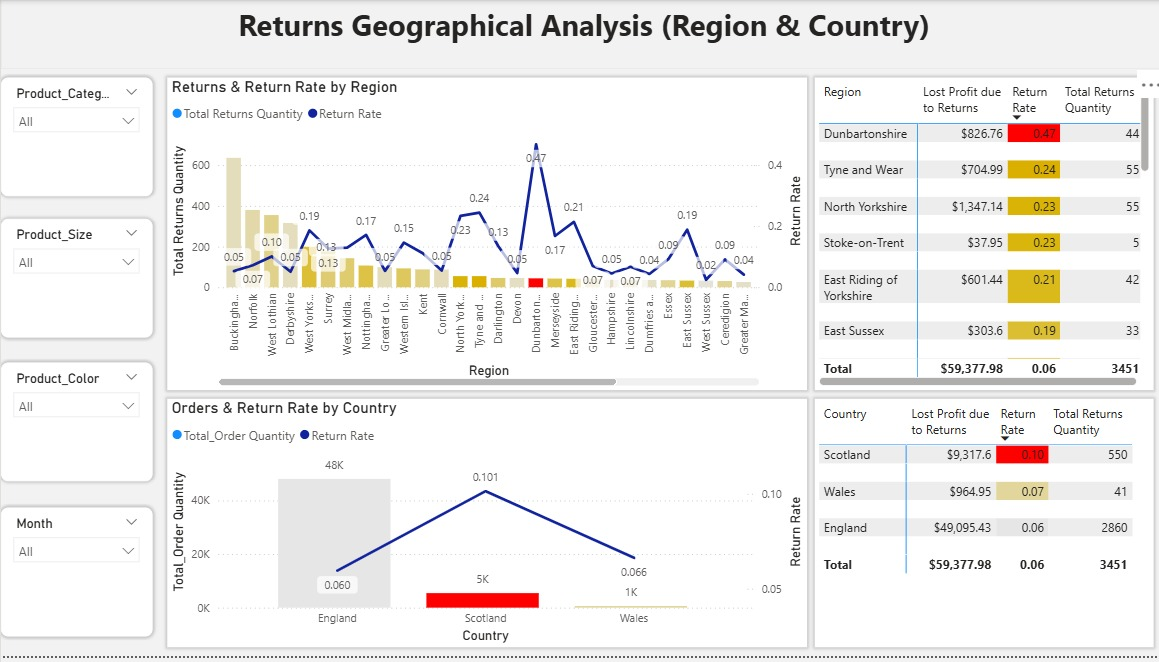

This screenshot's page, from the dashboard's own definition file:
{"tool":"powerbi","page":{"name":"Dashboarding step 3","canvas":[1280,720],"ordinal":12},"visuals":[{"type":"lineClusteredColumnComboChart","title":"Returns & Return Rate by Region","fields":{"Category":["Retailers1.Region"],"Y":["Calculations.Total Returns Quantity"],"Y2":["Calculations.Return Rate"]},"box":[182.5,85.1,702.6,343.1],"z":0},{"type":"lineClusteredColumnComboChart","title":"Orders & Return Rate by Country","fields":{"Category":["Retailers1.Country"],"Y":["Calculations.Total_Order Quantity"],"Y2":["Calculations.Return Rate"]},"box":[182.5,437.7,702.6,273.1],"z":1000},{"type":"pivotTable","fields":{"Values":["Calculations.Lost Profit due to Returns","Calculations.Return Rate","Calculations.Total Returns Quantity"],"Rows":["Retailers1.Country"]},"box":[893.3,437.7,371.9,273.1],"z":2000},{"type":"pivotTable","fields":{"Values":["Calculations.Lost Profit due to Returns","Calculations.Return Rate","Calculations.Total Returns Quantity"],"Rows":["Retailers1.Region"]},"box":[893.3,85.1,371.9,343.1],"z":3000},{"type":"textbox","box":[0,0,1280.3,75.5],"z":4000},{"type":"slicer","fields":{"Values":["Products1.Product_Category"]},"box":[0,85.1,166,130.4],"z":5000},{"type":"slicer","fields":{"Values":["Products1.Product_Size"]},"box":[0,240.1,166,130.4],"z":6000},{"type":"slicer","fields":{"Values":["Products1.Product_Color"]},"box":[0,397.9,166,130.4],"z":7000},{"type":"slicer","fields":{"Values":["Calender.Month"]},"box":[0,557.1,166,141.3],"z":8000}]}

Visuals, with their boxes in screenshot pixels (x1, y1, x2, y2), scaled from the page's 1280x720 canvas onto the 1159x662 screenshot:
"Returns & Return Rate by Region" lineClusteredColumnComboChart: [165,78,801,394]
"Orders & Return Rate by Country" lineClusteredColumnComboChart: [165,402,801,654]
pivotTable - Calculations.Lost Profit due to Returns x Calculations.Return Rate: [809,402,1146,654]
pivotTable - Calculations.Lost Profit due to Returns x Calculations.Return Rate: [809,78,1146,394]
textbox: [0,0,1158,69]
slicer - Products1.Product_Category: [0,78,150,198]
slicer - Products1.Product_Size: [0,221,150,341]
slicer - Products1.Product_Color: [0,366,150,486]
slicer - Calender.Month: [0,512,150,642]
